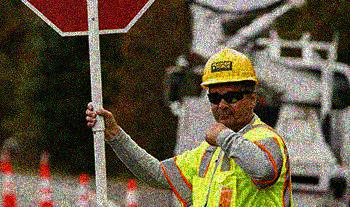helmet: (200, 49, 259, 127)
